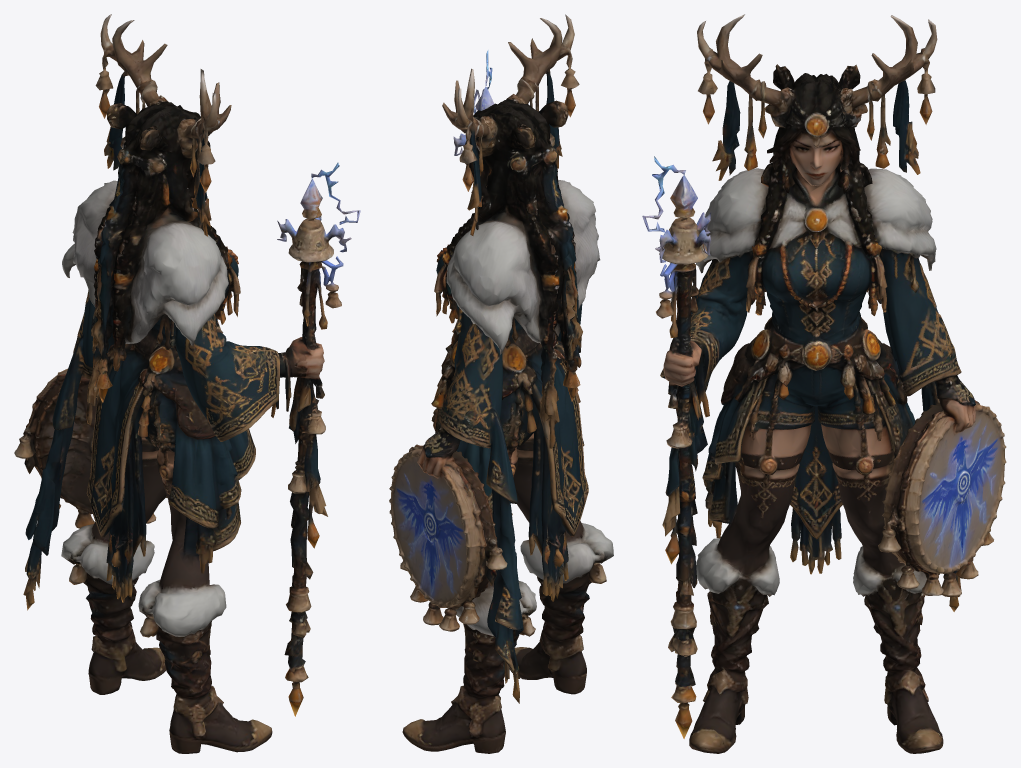
The model's file is drumcaller-AmberRoad-tripo.glb.
The picture shows the model from 3 angles, left to right: view 1: azimuth 30°, elevation 25°; view 2: azimuth 150°, elevation 25°; view 3: azimuth 270°, elevation 25°; orthographic projection. The views are drawn at different scales.
Visible parts, largest first — view 1: tripo_node_8a95f556-4819-41e7-8642-eae93ad5f24a; view 2: tripo_node_8a95f556-4819-41e7-8642-eae93ad5f24a; view 3: tripo_node_8a95f556-4819-41e7-8642-eae93ad5f24a.
Boxes of the visible parts, left/top/right/bottom form: tripo_node_8a95f556-4819-41e7-8642-eae93ad5f24a: left=14, top=14, right=360, bottom=753; tripo_node_8a95f556-4819-41e7-8642-eae93ad5f24a: left=389, top=14, right=613, bottom=753; tripo_node_8a95f556-4819-41e7-8642-eae93ad5f24a: left=642, top=14, right=1006, bottom=753.
Bounding box in the file's own units: 0.2985 × 1 × 0.459.
Materials: 1 (1 with a texture image).
